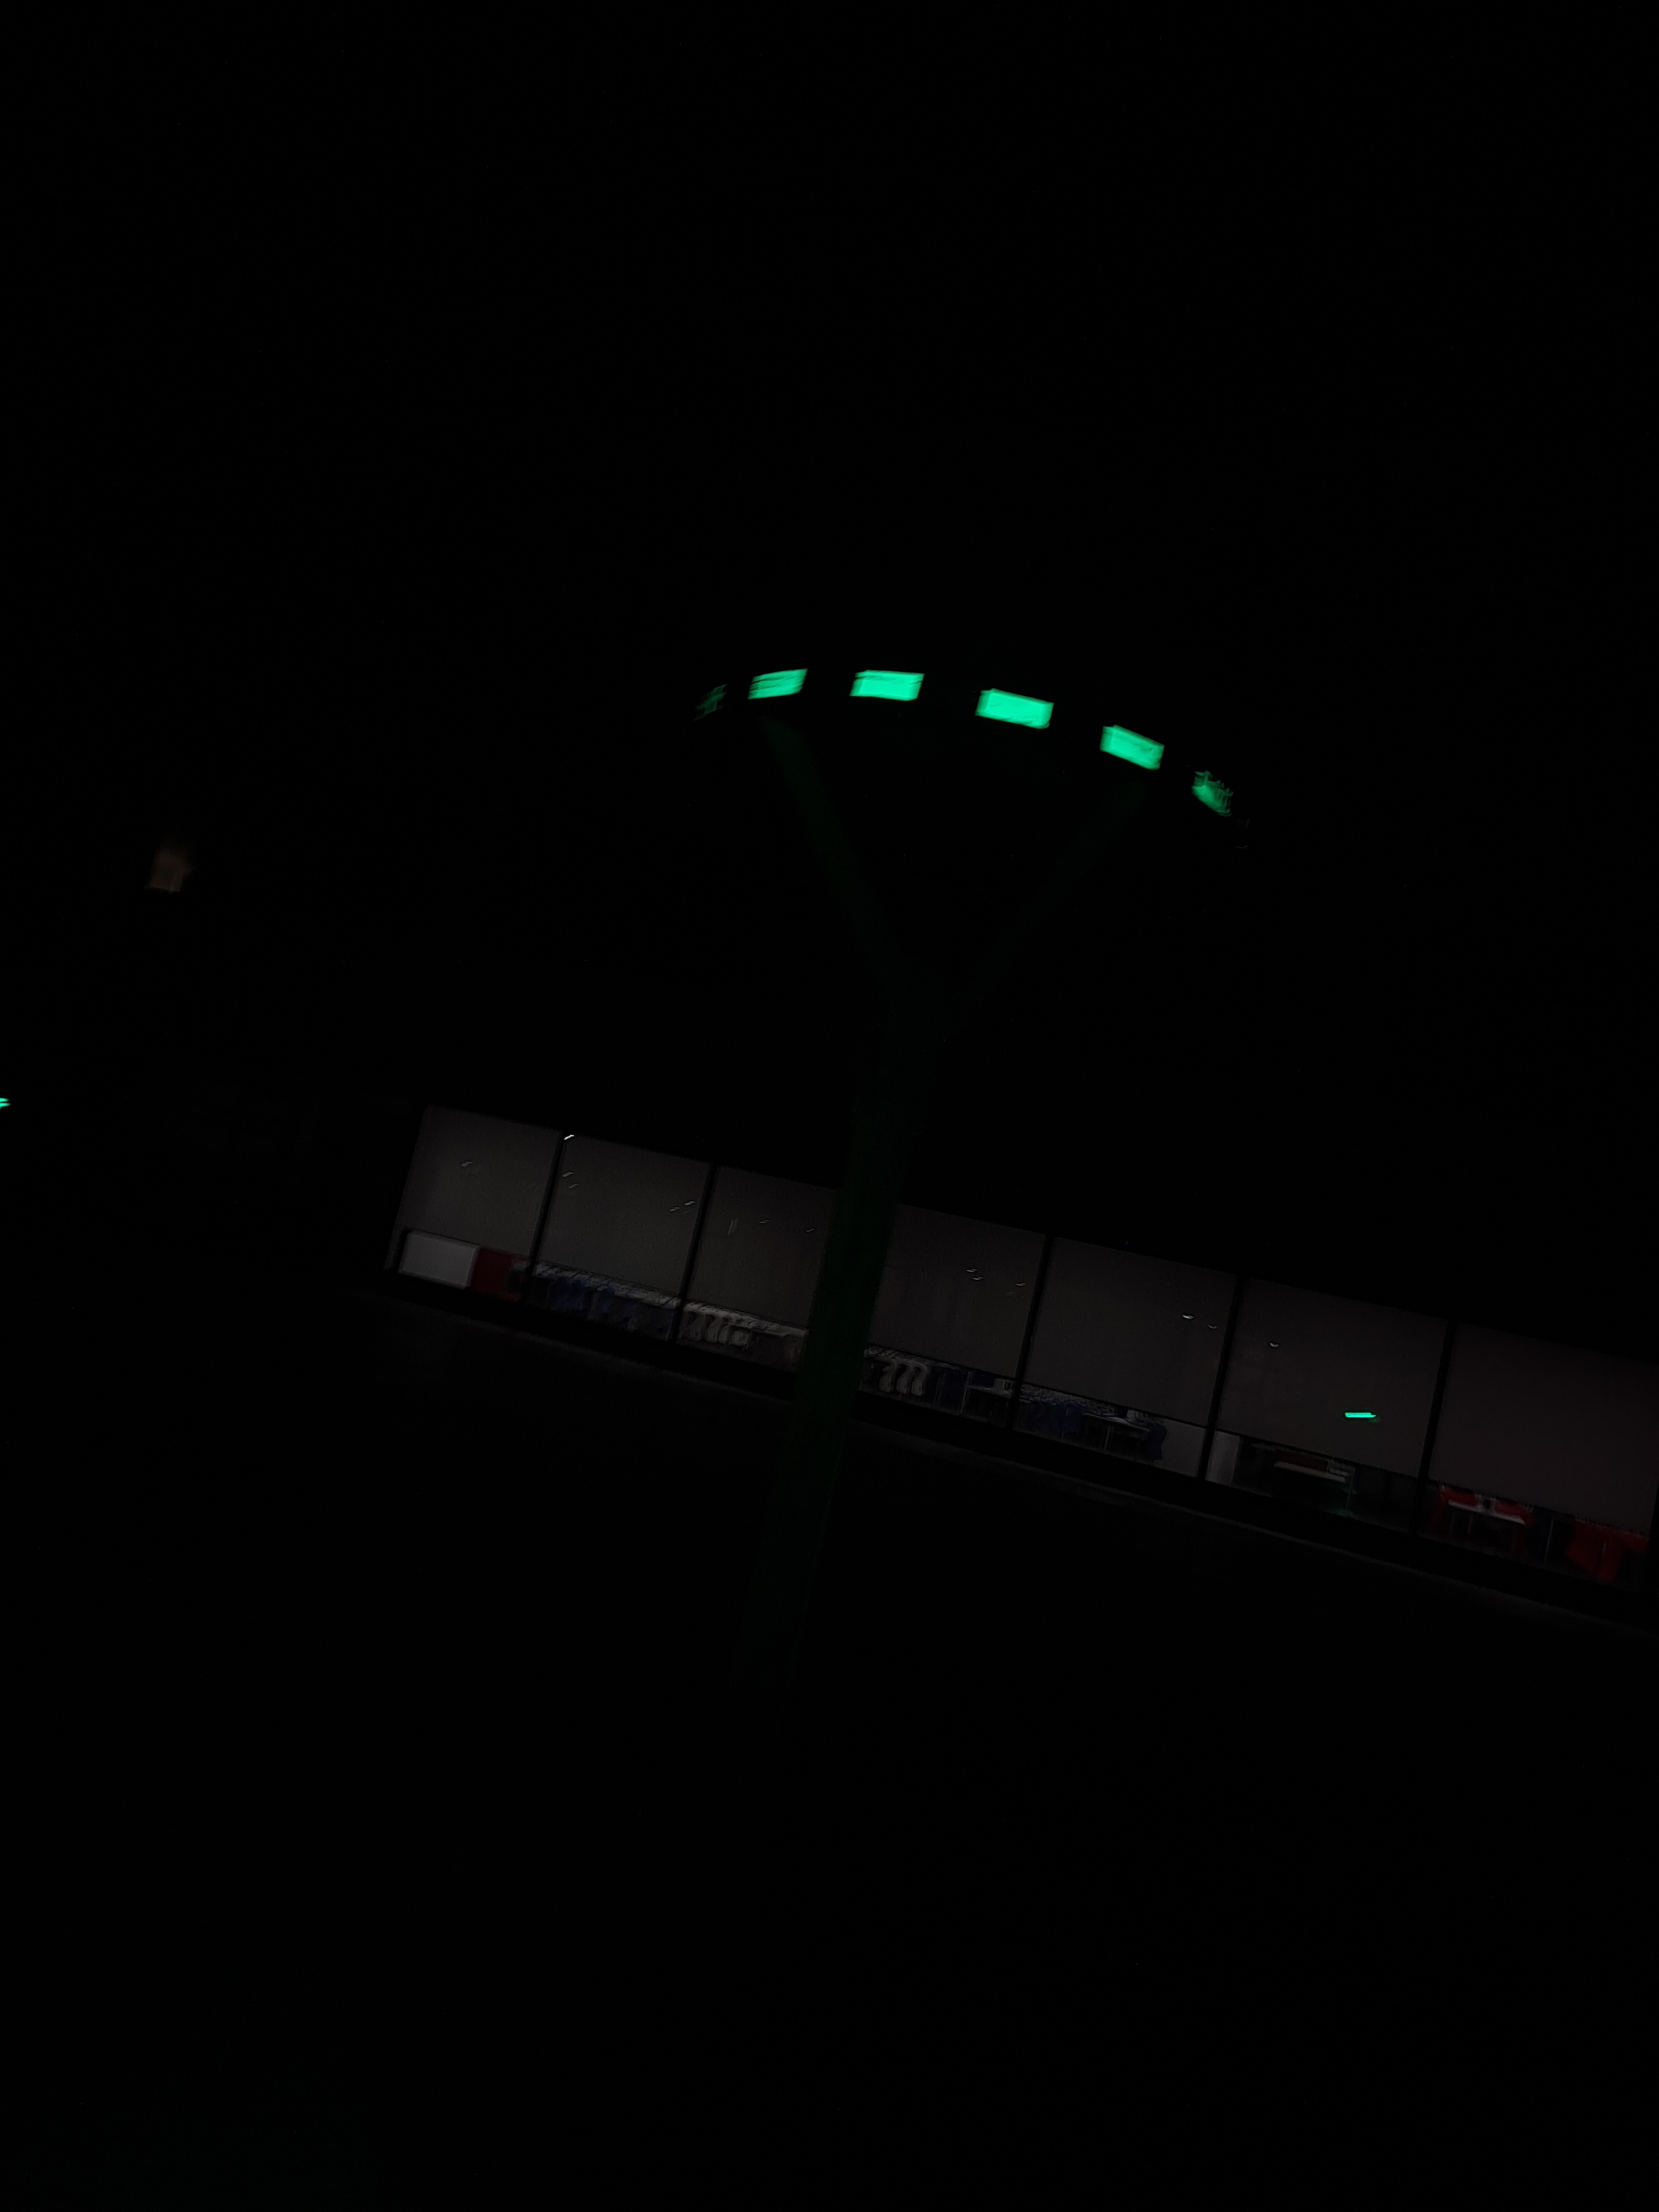hoop: (742, 644, 1236, 822)
